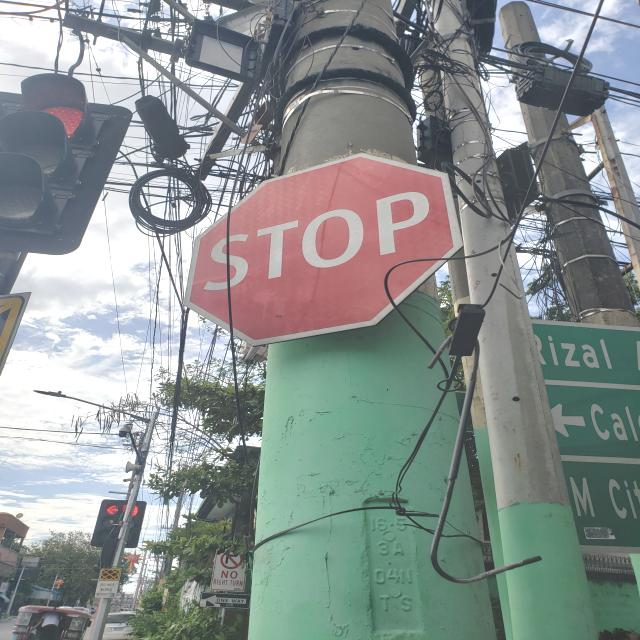stop-sign: (183, 152, 464, 347)
